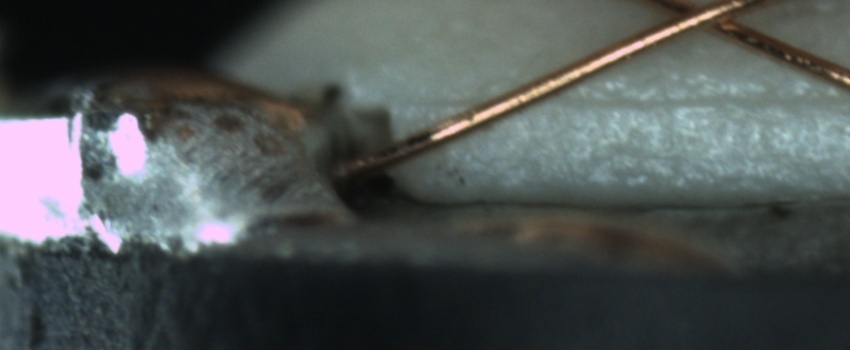CL: (646, 1, 766, 42)
DL: (442, 73, 849, 133)
